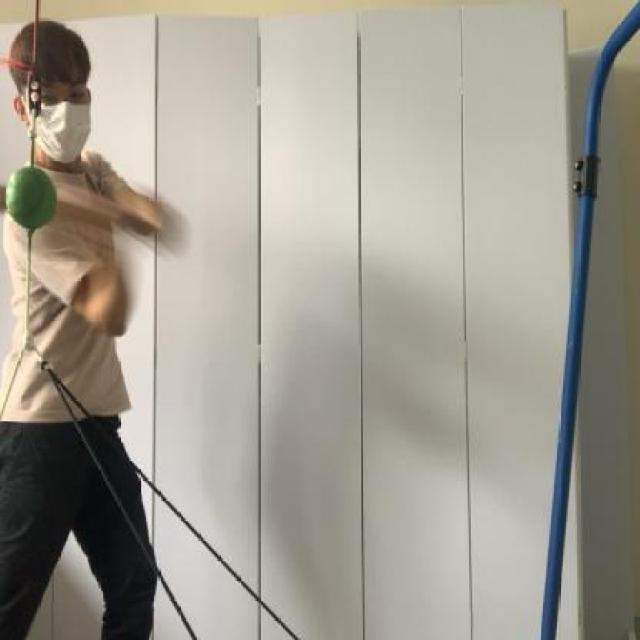baseball: (10, 159, 56, 230)
